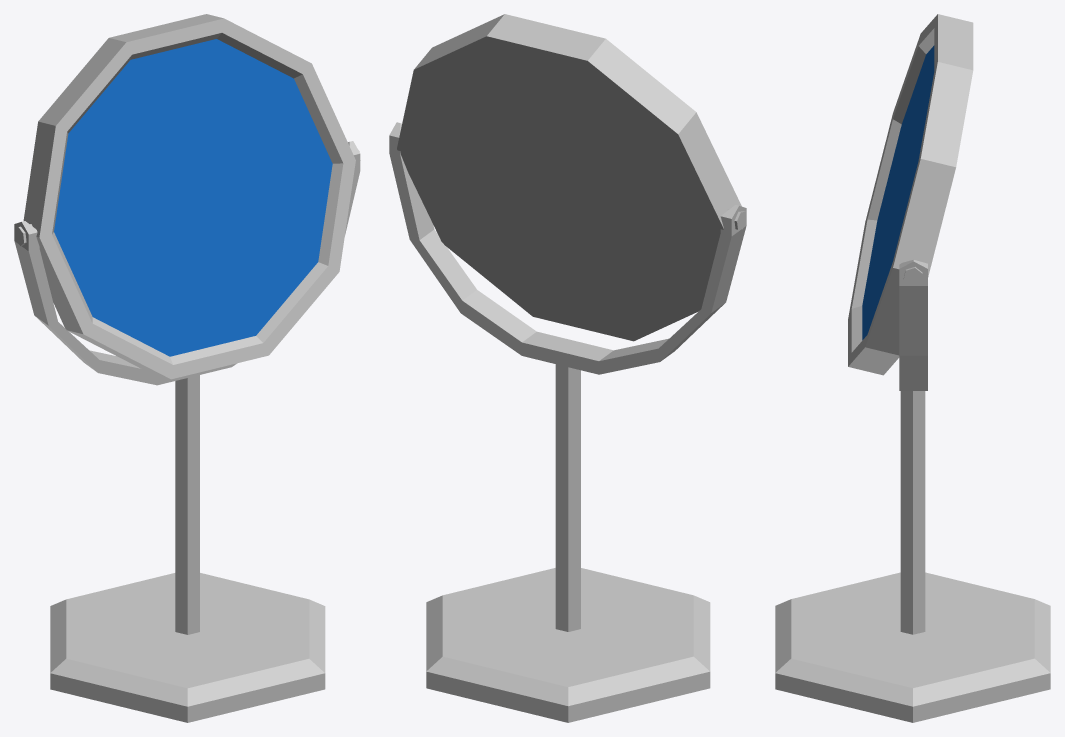
The model's file is SM_mirror.fbx.
3 views of the same model, side by side, from view 1: azimuth 30°, elevation 25°; view 2: azimuth 150°, elevation 25°; view 3: azimuth 270°, elevation 25° (orthographic). The views are drawn at different scales.
Visible parts, largest first — view 1: Cylinder_13; view 2: Cylinder_13; view 3: Cylinder_13.
Part boxes in pixels (x1,y1,x2,y2): Cylinder_13: [14, 14, 360, 722]; Cylinder_13: [389, 14, 746, 722]; Cylinder_13: [775, 14, 1050, 722].
Bounding box in the file's own units: 17.99 × 31.51 × 12.74.
